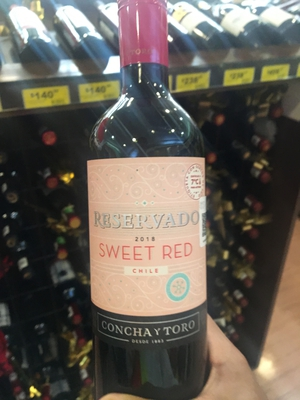reservado sweet red: (61, 28, 216, 400)
